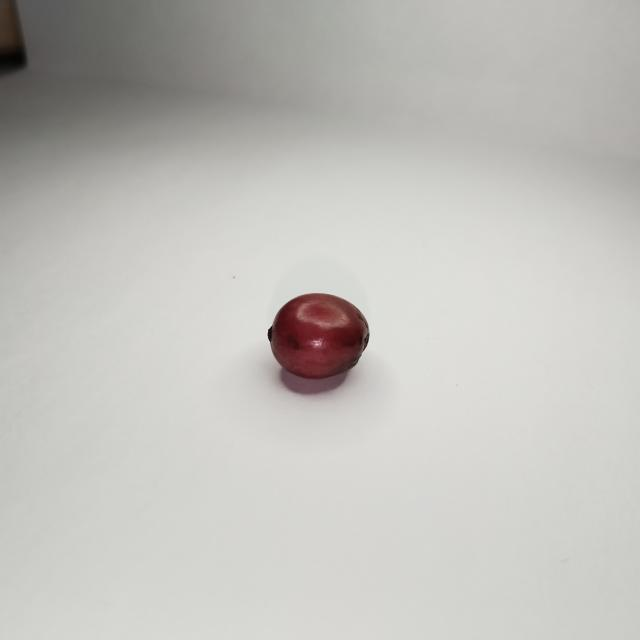Sano: (267, 293, 369, 380)
